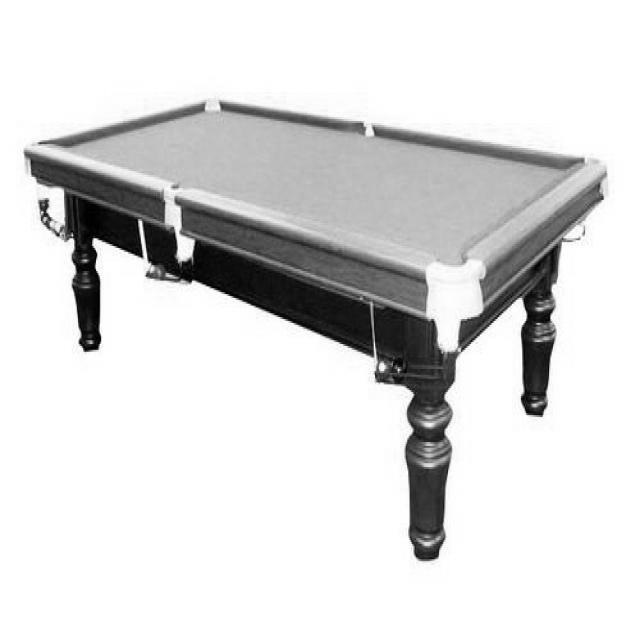table: (23, 95, 610, 560)
